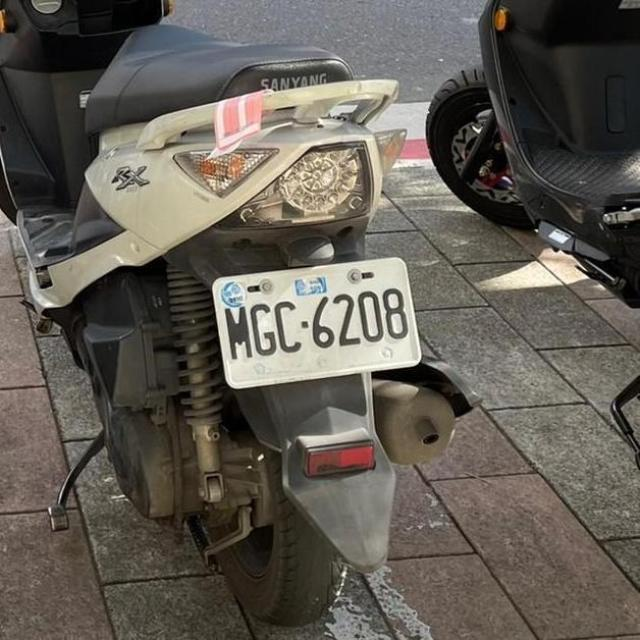W: (205, 244, 426, 396)
